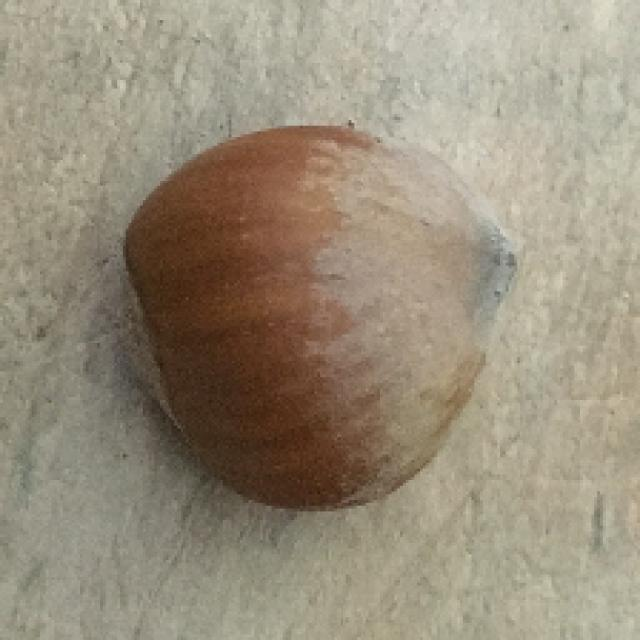qualityHazelnut: (123, 122, 518, 511)
